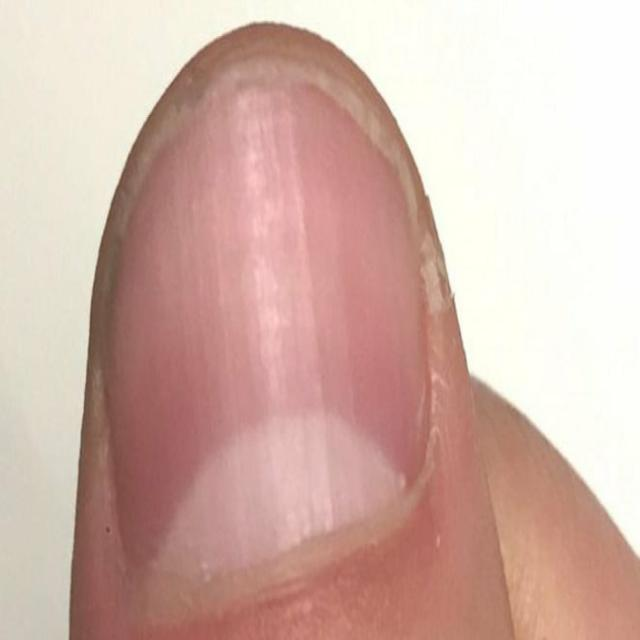sehat: (103, 77, 434, 585)
